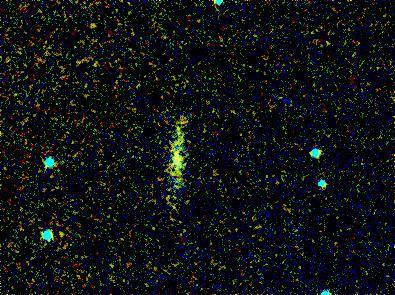star: (48, 216, 78, 246)
